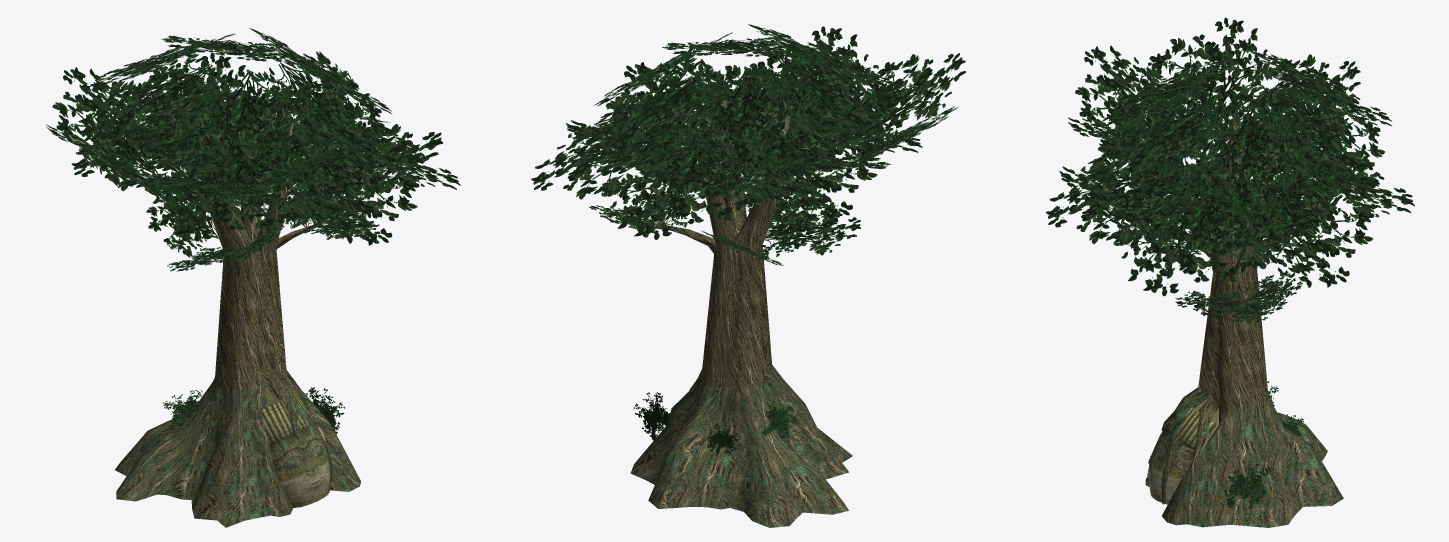
File: swmp_decd_sacredtree_l2.fbx
The picture shows the model from 3 angles, left to right: view 1: azimuth 30°, elevation 25°; view 2: azimuth 150°, elevation 25°; view 3: azimuth 270°, elevation 25°; orthographic projection. The views are drawn at different scales.
Parts seen in each view (by area): view 1: mesh_node; view 2: mesh_node; view 3: mesh_node.
Part boxes in pixels (<box>): mesh_node: <box>46,27,460,527</box>; mesh_node: <box>531,24,965,527</box>; mesh_node: <box>1046,17,1414,527</box>.
Size of the model in its own units: 40.53 by 41.88 by 37.48.
